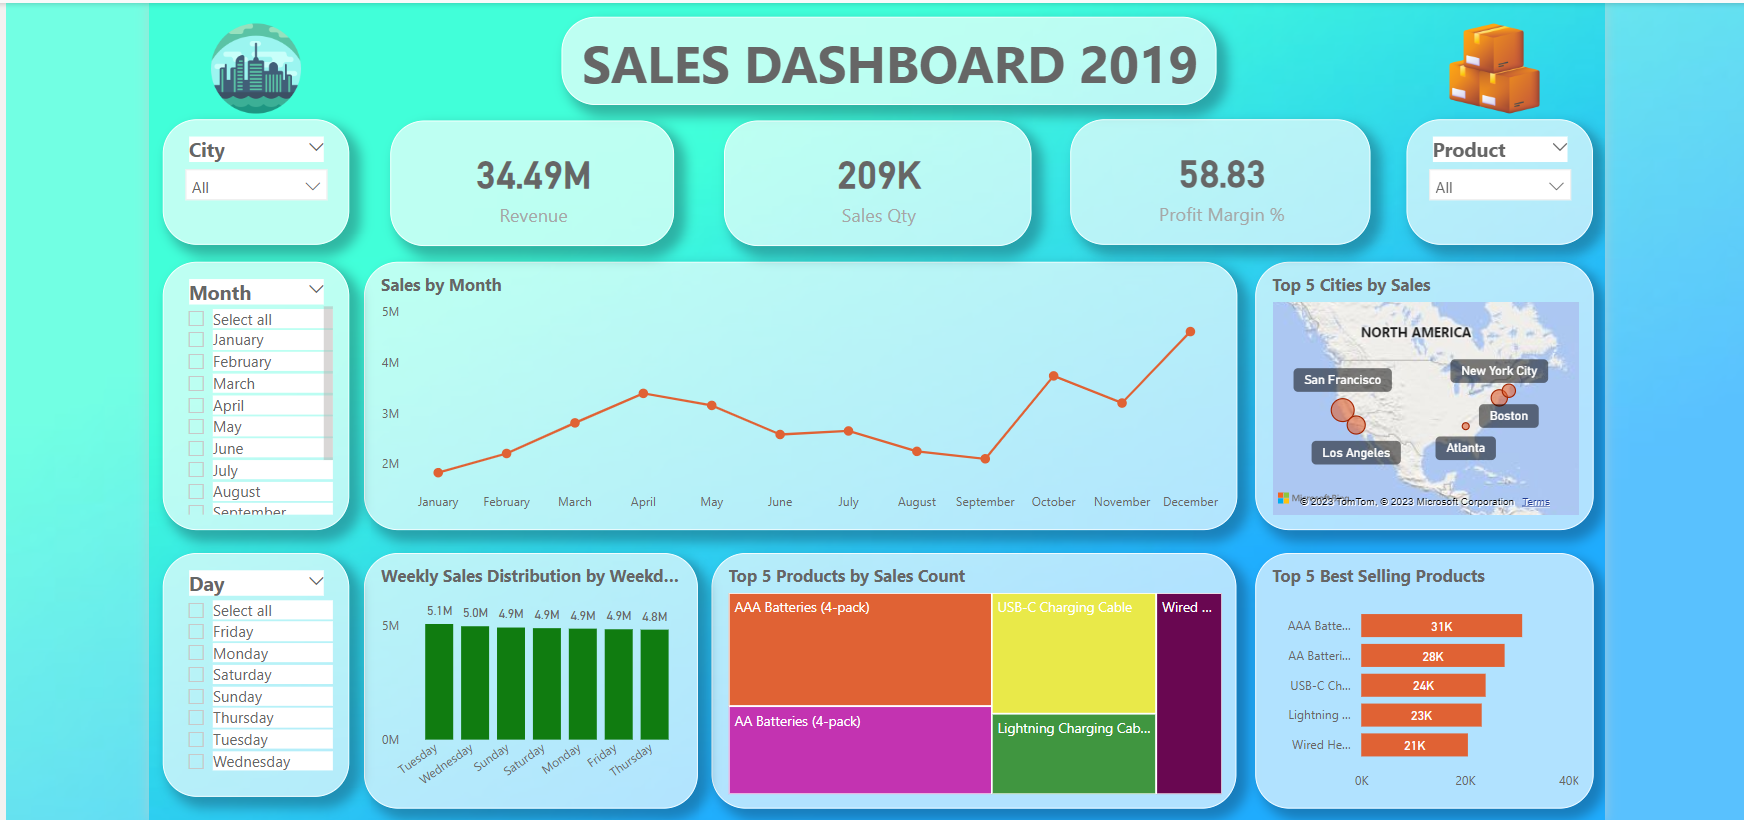

This screenshot's page, from the dashboard's own definition file:
{"tool":"powerbi","page":{"name":"Page 1","canvas":[1280,720],"ordinal":0},"visuals":[{"type":"textbox","title":"SALES DASHBOARD 2019","box":[363,11.9,576,77.4],"z":0},{"type":"image","box":[11.9,13.1,164.2,89.3],"z":1000},{"type":"slicer","fields":{"Values":["Sales Data.City"]},"box":[11.9,102.3,164.2,110.7],"z":2000},{"type":"lineChart","title":"Sales by Month","fields":{"Y":["Sum(Sales Data.Sales)"],"Category":["Sales Data (2).Order Date.1.Variation.Date Hierarchy.Month"]},"box":[189.2,227.3,767.6,235.6],"z":3000},{"type":"treemap","title":"Top 5 Products by Sales Count","fields":{"Group":["Sales Data.Product"],"Values":["Count(Sales Data.Sales)"]},"box":[495.1,483.2,461.8,224.9],"z":4000},{"type":"barChart","title":"Top 5 Best Selling Products","fields":{"Category":["Sales Data.Product"],"Y":["Sum(Sales Data.Quantity Ordered)"]},"box":[972.3,483.2,297.5,224.9],"z":5000},{"type":"map","title":"Top 5 Cities by Sales","fields":{"Category":["Sales Data.City"],"Size":["Sum(Sales Data.Sales)"]},"box":[972.3,227.3,297.5,235.6],"z":6000},{"type":"columnChart","title":"Weekly Sales Distribution by Weekday, Descending","fields":{"Y":["Sum(Sales Data.Sales)"],"Category":["Sales Data (2).Order Date.1 - Copy.1"]},"box":[189.2,483.2,294,224.9],"z":7000},{"type":"slicer","fields":{"Values":["Sales Data (2).Month_name"]},"box":[11.9,227.3,164.2,235.6],"z":7001},{"type":"slicer","fields":{"Values":["Sales Data (2).Order Date.1 - Copy.1"]},"box":[11.9,483.2,164.2,214.2],"z":7002},{"type":"image","box":[1121.1,13.1,123.8,89.3],"z":7003},{"type":"slicer","fields":{"Values":["Sales Data.Product"]},"box":[1105.6,102.3,164.2,110.7],"z":7004},{"type":"card","fields":{"Values":["Sum(Sales Data.Sales)"]},"box":[211.8,103.5,249.9,110.7],"z":7005},{"type":"card","fields":{"Values":["Sum(Sales Data.Quantity Ordered)"]},"box":[505.8,103.5,270.1,110.7],"z":7006},{"type":"card","fields":{"Values":["Sales Data.PROFIT_MARGIN"]},"box":[810.4,102.3,264.2,110.7],"z":7007}]}

Visuals, with their boxes in screenshot pixels (x1, y1, x2, y2):
"SALES DASHBOARD 2019" textbox: x1=559 y1=18 x2=1207 y2=105
image: x1=163 y1=19 x2=348 y2=120
slicer - Sales Data.City: x1=163 y1=120 x2=348 y2=244
"Sales by Month" lineChart: x1=363 y1=260 x2=1227 y2=526
"Top 5 Products by Sales Count" treemap: x1=707 y1=549 x2=1227 y2=802
"Top 5 Best Selling Products" barChart: x1=1245 y1=549 x2=1580 y2=802
"Top 5 Cities by Sales" map: x1=1245 y1=260 x2=1580 y2=526
"Weekly Sales Distribution by Weekday, Descending" columnChart: x1=363 y1=549 x2=694 y2=802
slicer - Sales Data (2).Month_name: x1=163 y1=260 x2=348 y2=526
slicer - Sales Data (2).Order Date.1 - Copy.1: x1=163 y1=549 x2=348 y2=790
image: x1=1412 y1=19 x2=1552 y2=120
slicer - Sales Data.Product: x1=1395 y1=120 x2=1580 y2=244
card - Sum(Sales Data.Sales): x1=388 y1=121 x2=670 y2=246
card - Sum(Sales Data.Quantity Ordered): x1=719 y1=121 x2=1023 y2=246
card - Sales Data.PROFIT_MARGIN: x1=1062 y1=120 x2=1360 y2=244
